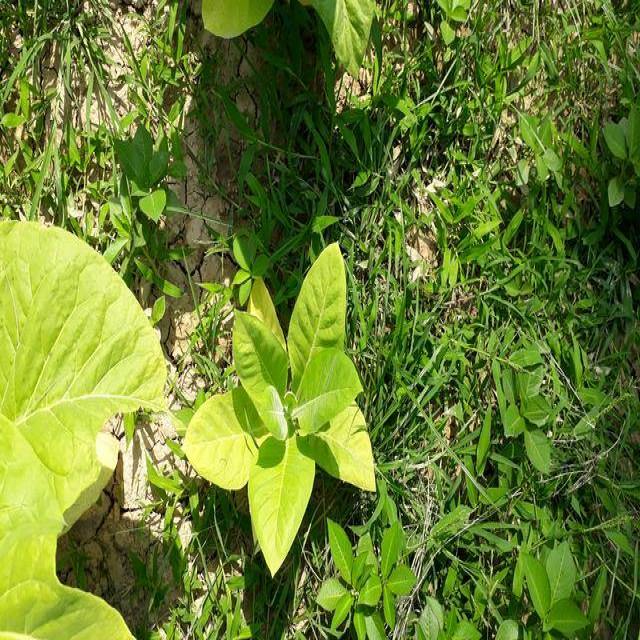crop: (178, 241, 384, 576)
